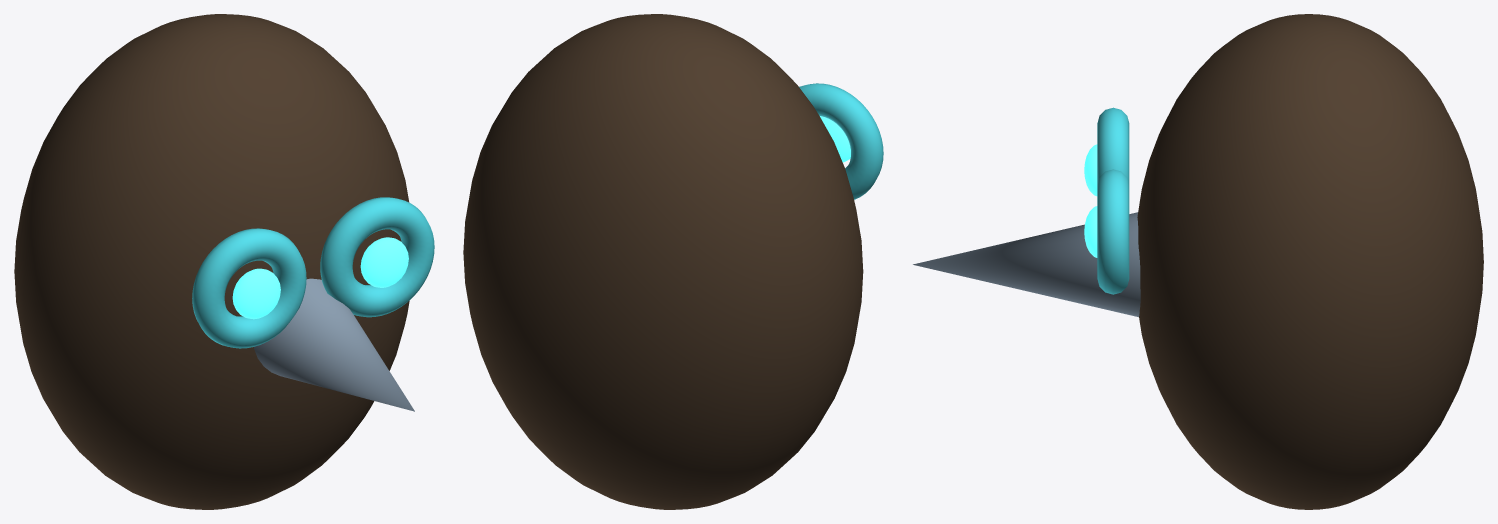
The model's file is helm_v6.glb.
The picture shows the model from 3 angles, left to right: view 1: azimuth 30°, elevation 25°; view 2: azimuth 150°, elevation 25°; view 3: azimuth 270°, elevation 25°; orthographic projection.
Parts seen in each view (by area): view 1: PLAGUE_HOOD_SECONDARY, PLAGUE_BEAK_PRIMARY, PLAGUE_LENS_ACCENT, PLAGUE_LENS_ACCENT.001, EYE_EMISSIVE.001, EYE_EMISSIVE; view 2: PLAGUE_HOOD_SECONDARY, PLAGUE_LENS_ACCENT, EYE_EMISSIVE; view 3: PLAGUE_HOOD_SECONDARY, PLAGUE_BEAK_PRIMARY, PLAGUE_LENS_ACCENT.001, PLAGUE_LENS_ACCENT.
Part boxes in pixels (x1,y1,x2,y2): PLAGUE_HOOD_SECONDARY: (14, 14, 409, 509); PLAGUE_BEAK_PRIMARY: (254, 278, 414, 411); PLAGUE_LENS_ACCENT: (192, 228, 306, 348); PLAGUE_LENS_ACCENT.001: (320, 197, 434, 317); EYE_EMISSIVE.001: (360, 237, 408, 287); EYE_EMISSIVE: (232, 268, 280, 319); PLAGUE_HOOD_SECONDARY: (463, 14, 863, 509); PLAGUE_LENS_ACCENT: (799, 83, 883, 199); EYE_EMISSIVE: (820, 116, 850, 162); PLAGUE_HOOD_SECONDARY: (1137, 14, 1483, 509); PLAGUE_BEAK_PRIMARY: (913, 212, 1140, 317); PLAGUE_LENS_ACCENT.001: (1097, 169, 1129, 294); PLAGUE_LENS_ACCENT: (1097, 107, 1129, 184).
Bounding box in the file's own units: 1.4 × 1.76 × 1.96.
